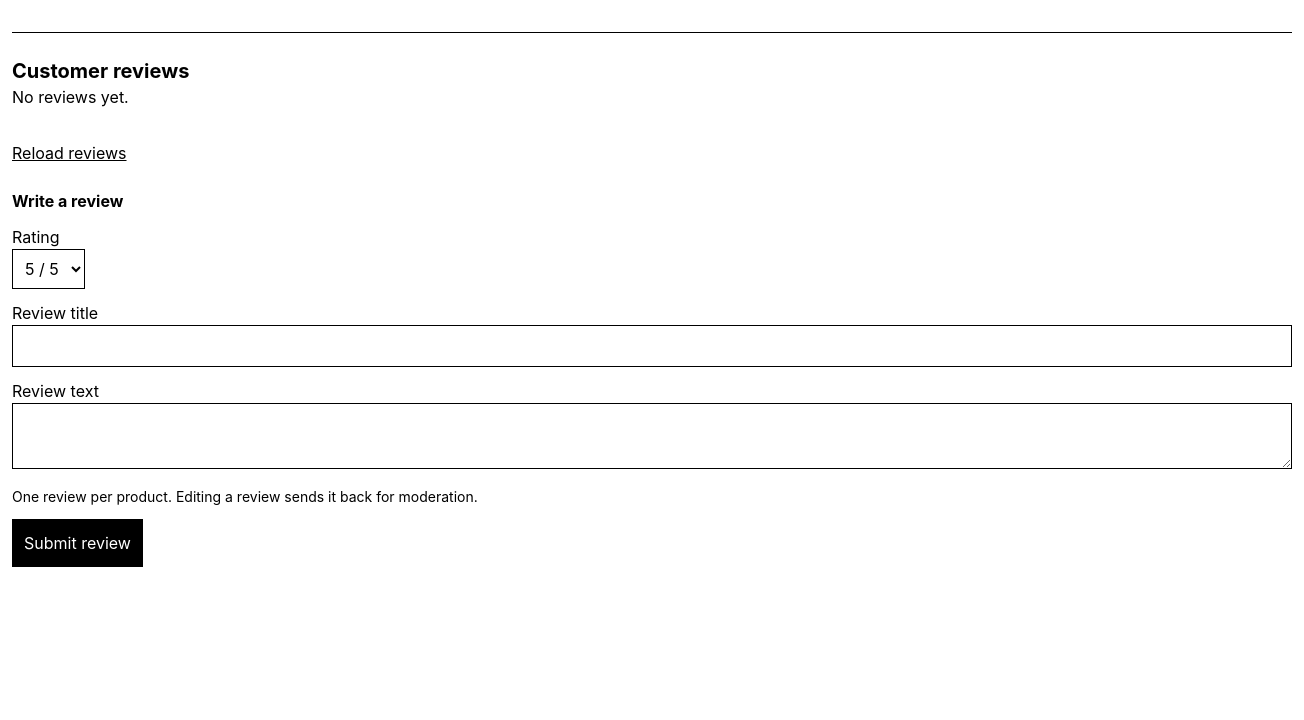
it: product review lifecycle › keeps rejected input and shows backend validation errors
Type "My review" into the field labelled "Review title". click: (652, 346)
box: [12,325,1292,367]
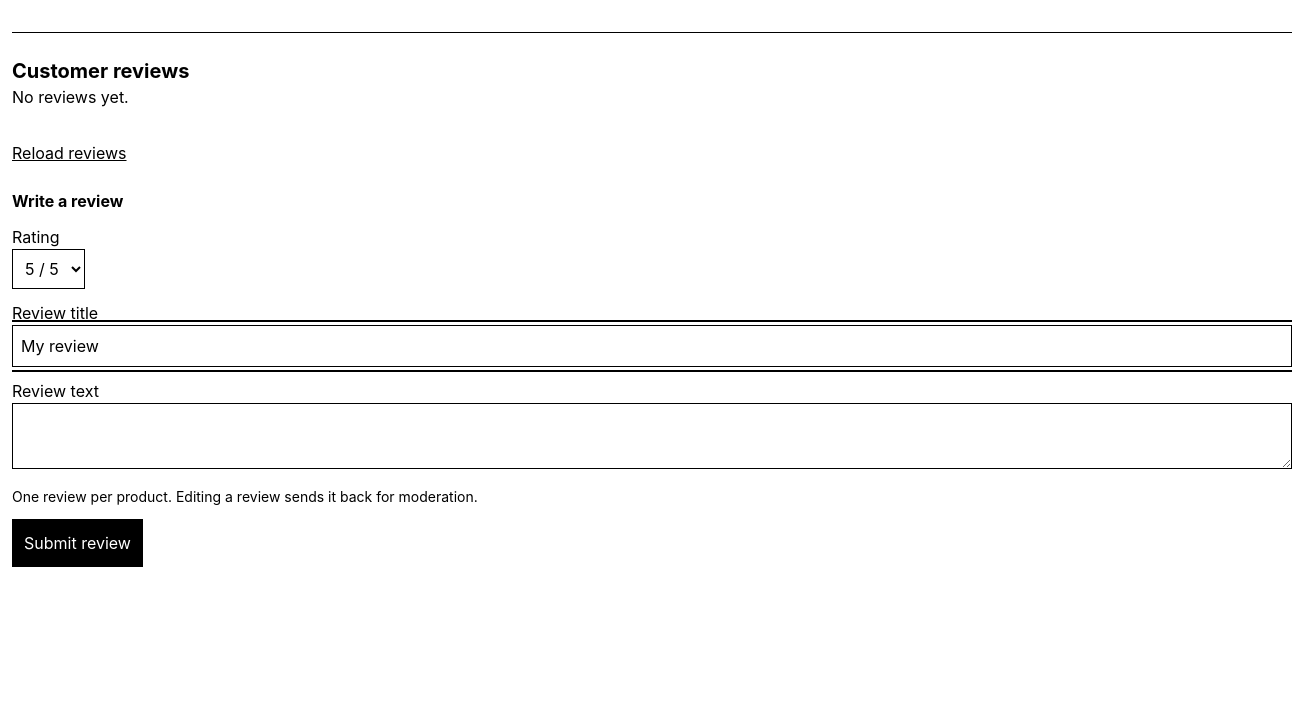
Type "Useful" into the text box labelled "Review text". click: (652, 436)
box: [12,403,1292,469]
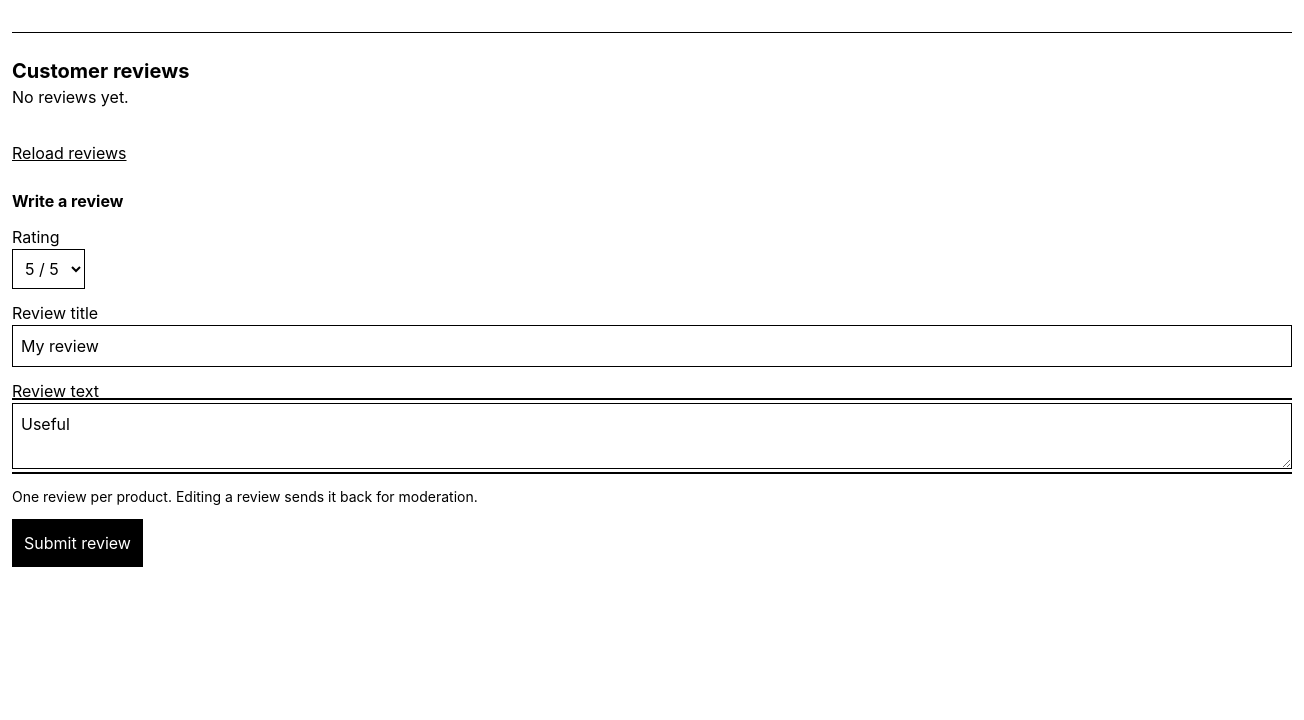
Click the button "Submit review". click: click(77, 543)
box: [12,519,143,567]
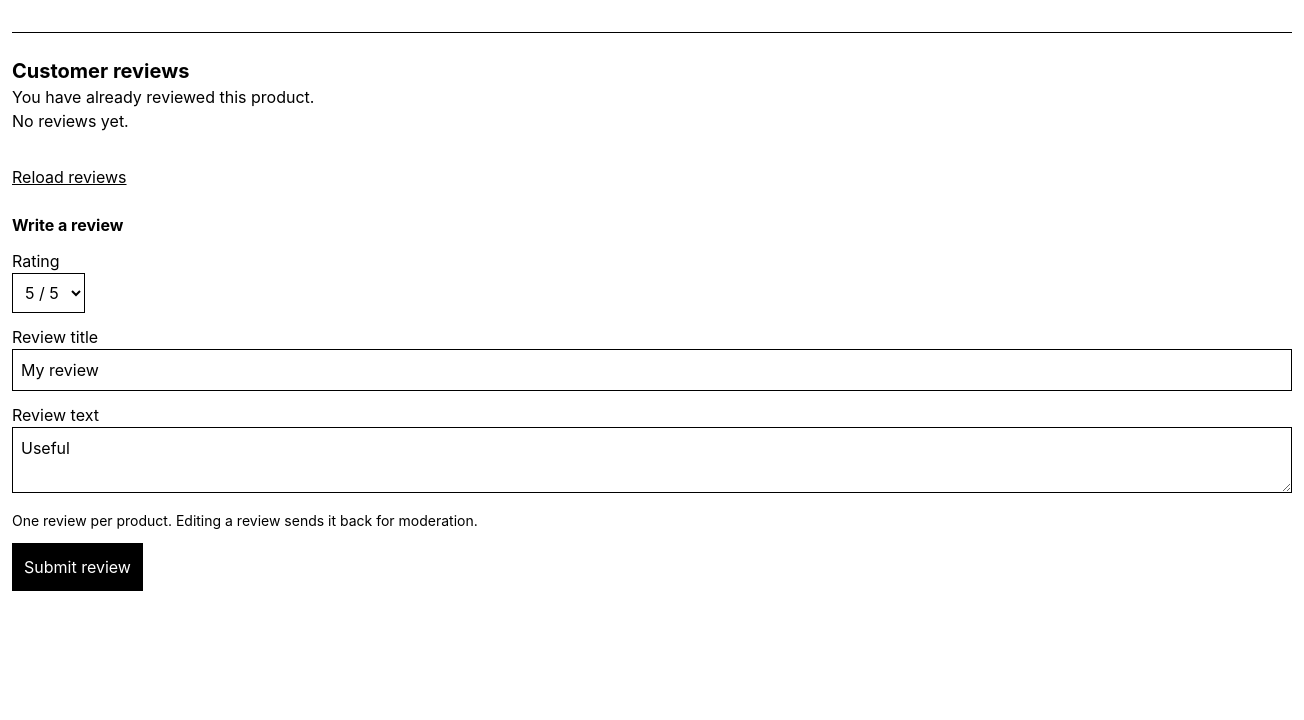
Expected: the message shows "already reviewed", [12,87,314,107]
